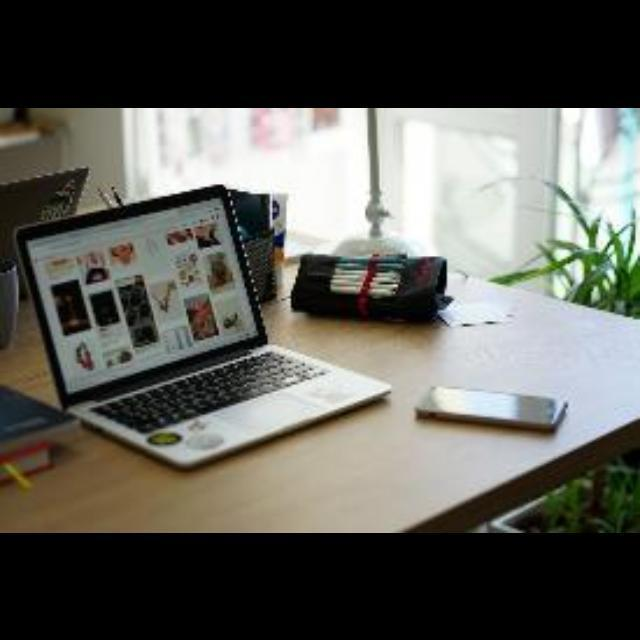phone: (399, 374, 584, 457)
